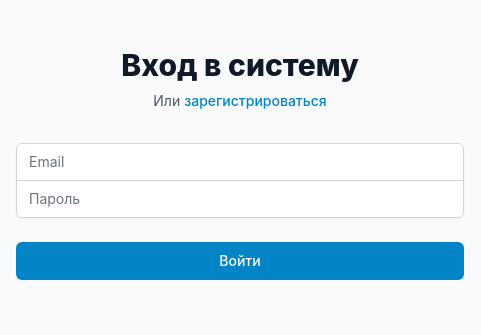
LoginPage › shows error message when login fails
# Fill in the form
Type "test@example.com" into the field with placeholder "Email".
click(240, 162); type("test@example.com")  # box top-left (16, 142), bottom-right (464, 180)
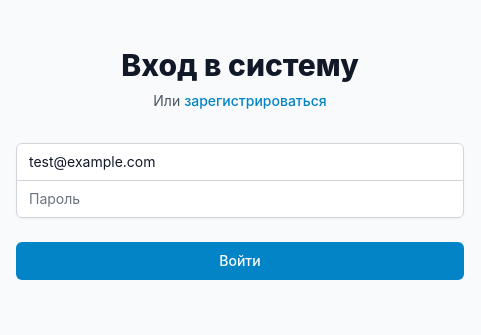
Type "password123" into the password field with placeholder "Пароль".
click(240, 198); type("password123")  # box top-left (16, 180), bottom-right (464, 218)
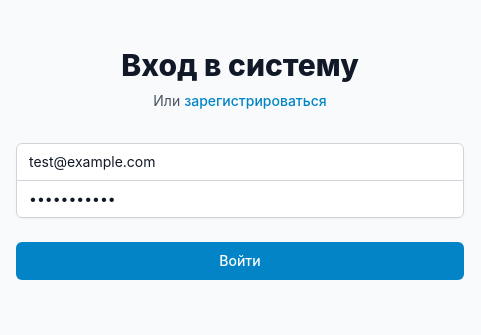
# Submit the form
Click the button "Войти".
click(240, 260)  # box top-left (16, 242), bottom-right (464, 280)
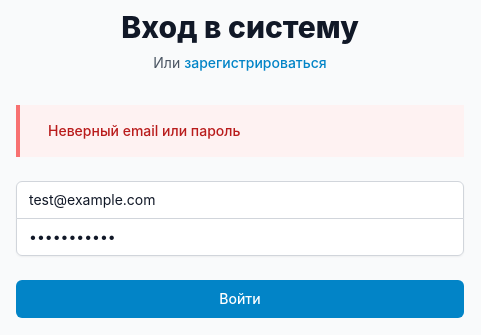
Check: the text "Неверный email или пароль" is shown, box top-left (48, 122), bottom-right (240, 138)
